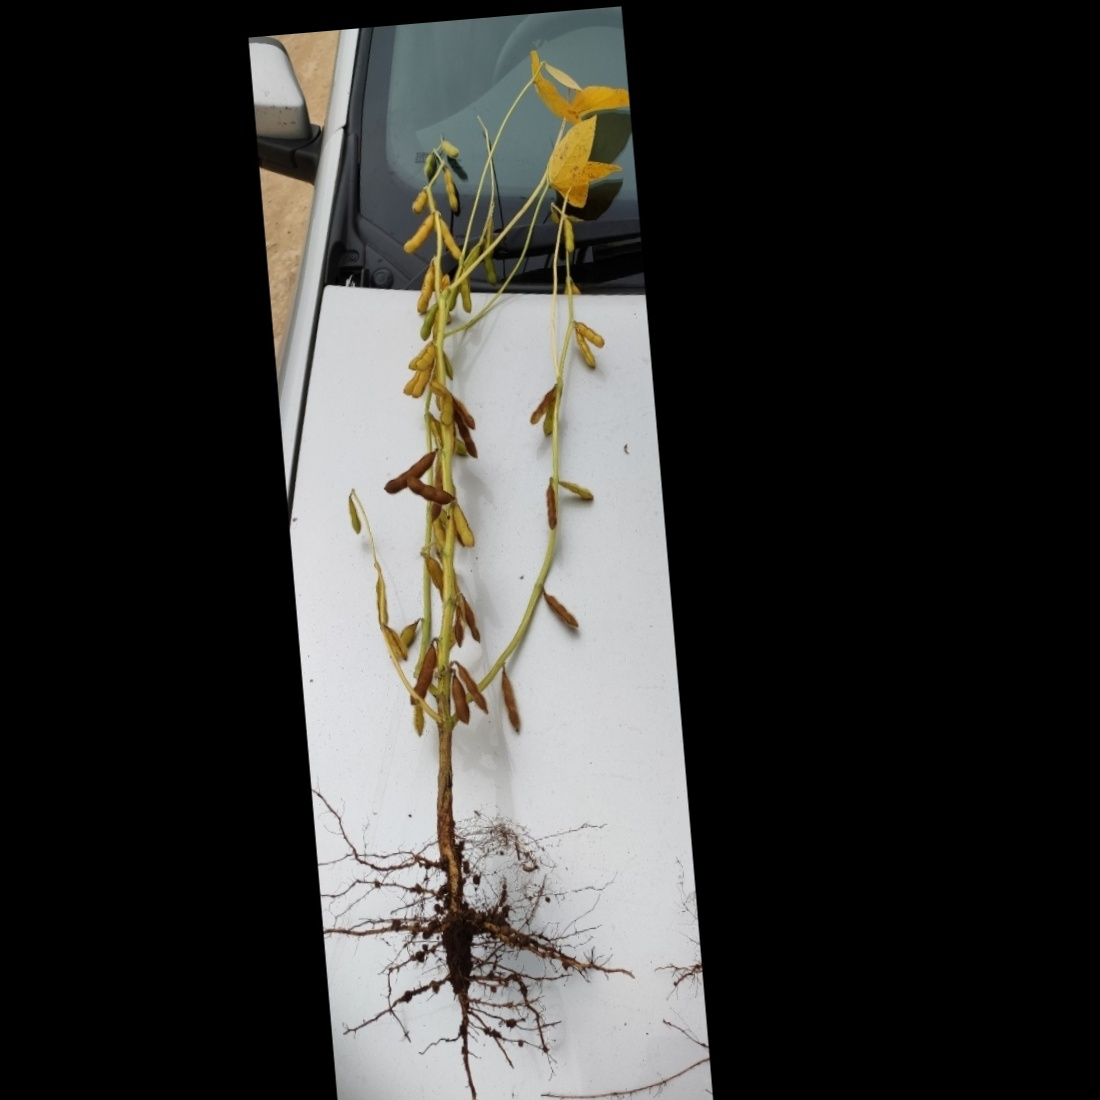pod: (380, 442, 445, 497), (497, 651, 530, 743), (392, 205, 447, 260), (404, 642, 447, 708), (403, 468, 459, 509), (442, 663, 475, 730), (539, 586, 580, 640), (412, 259, 446, 322), (547, 471, 597, 509), (569, 316, 609, 357), (439, 154, 462, 220), (557, 214, 584, 259), (449, 506, 476, 548), (341, 491, 363, 540), (539, 482, 558, 535), (411, 341, 443, 372), (419, 145, 437, 183)
soy: (298, 110, 661, 1045)
